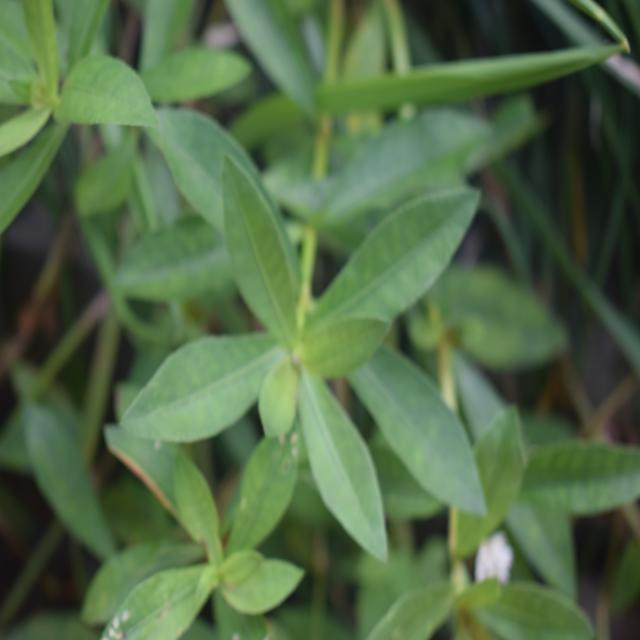Alligatorweed: (146, 147, 488, 578)
